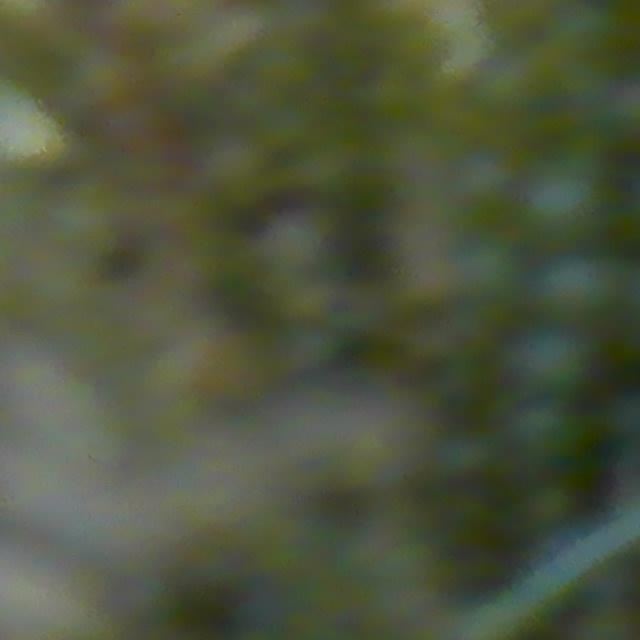SeaGrape: (526, 166, 611, 253), (505, 332, 605, 399), (531, 251, 618, 325), (446, 231, 522, 305), (505, 395, 583, 467)
